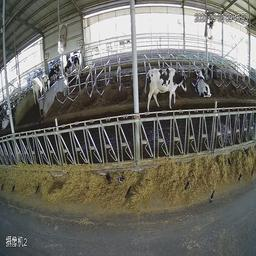cow: (163, 61, 201, 109), (27, 74, 43, 111), (197, 67, 211, 103), (39, 66, 52, 103), (64, 52, 84, 75)
